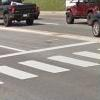Crosswalk: (1, 39, 100, 84)
